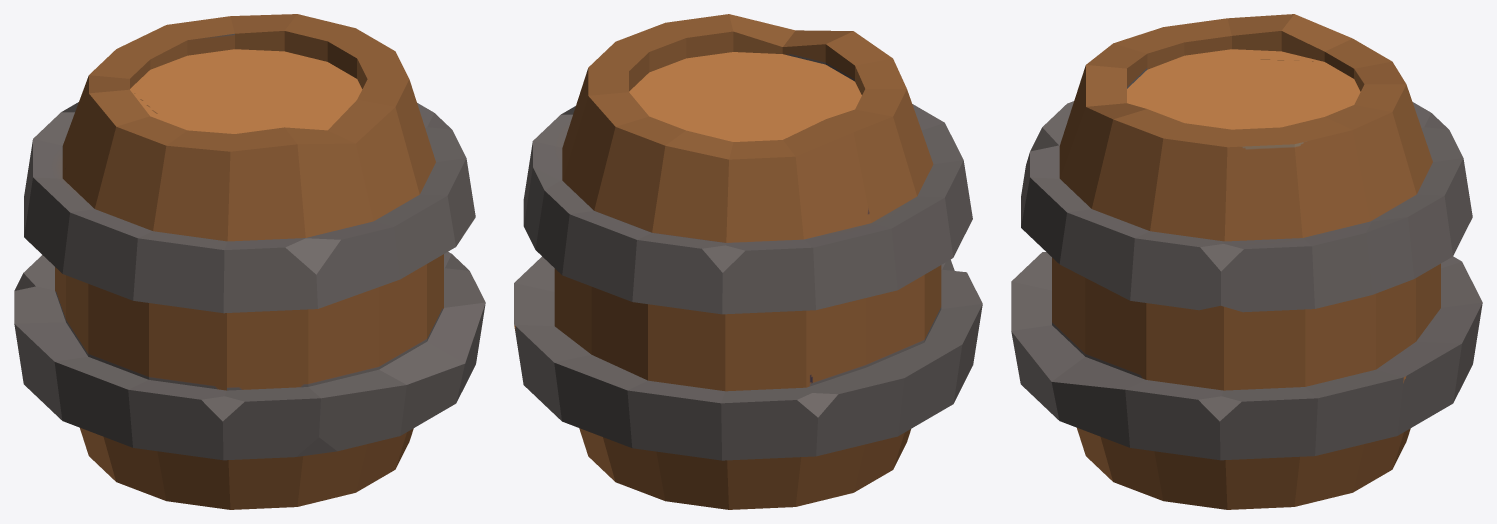
The model's file is Barriel.fbx.
The picture shows the model from 3 angles, left to right: view 1: azimuth 30°, elevation 25°; view 2: azimuth 150°, elevation 25°; view 3: azimuth 270°, elevation 25°; orthographic projection.
Visible parts, largest first — view 1: Cylinder.006; view 2: Cylinder.006; view 3: Cylinder.006.
Part boxes in pixels (x1=…): Cylinder.006: x1=14, y1=14, x2=485, y2=509; Cylinder.006: x1=514, y1=14, x2=982, y2=509; Cylinder.006: x1=1011, y1=14, x2=1482, y2=509.
Size of the model in its own units: 236 by 200 by 236.
Materials: 1 (1 with a texture image).
